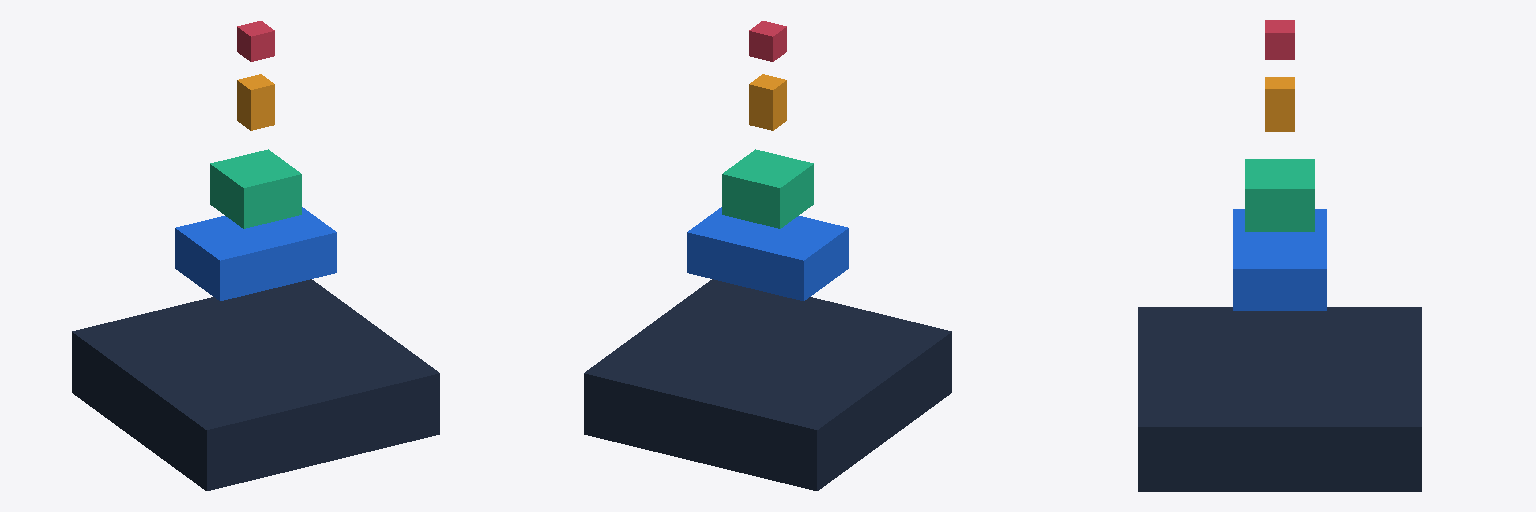
The robot description file, URDF, robot "Quickstart Gantry":
<?xml version="1.0"?>
<!-- Fictional virtual robot. SI units. Acceleration is a RoboDE-supported URDF extension; values are illustrative simulation settings, not manufacturer ratings. -->
<robot name="Quickstart Gantry">
  <link name="base_link">
    <visual>
      <origin xyz="0 0 .03" />
      <geometry>
        <box size=".24 .24 .06" />
      </geometry>
      <material name="base_link_color">
        <color rgba=".18 .23 .32 1" />
      </material>
    </visual>
    <collision>
      <origin xyz="0 0 .03" />
      <geometry>
        <box size=".24 .24 .06" />
      </geometry>
    </collision>
    <inertial>
      <origin xyz="0 0 .03" />
      <mass value="0.2" />
      <inertia ixx=".001" ixy="0" ixz="0" iyy=".001" iyz="0" izz=".001" />
    </inertial>
  </link>
  <link name="x_carriage">
    <visual>
      <origin xyz="0 0 0" />
      <geometry>
        <box size=".12 .08 .04" />
      </geometry>
      <material name="x_carriage_color">
        <color rgba=".2 .5 .95 1" />
      </material>
    </visual>
    <collision>
      <origin xyz="0 0 0" />
      <geometry>
        <box size=".12 .08 .04" />
      </geometry>
    </collision>
    <inertial>
      <origin xyz="0 0 0" />
      <mass value="0.2" />
      <inertia ixx=".001" ixy="0" ixz="0" iyy=".001" iyz="0" izz=".001" />
    </inertial>
  </link>
  <link name="y_carriage">
    <visual>
      <origin xyz="0 0 0" />
      <geometry>
        <box size=".06 .06 .04" />
      </geometry>
      <material name="y_carriage_color">
        <color rgba=".2 .8 .6 1" />
      </material>
    </visual>
    <collision>
      <origin xyz="0 0 0" />
      <geometry>
        <box size=".06 .06 .04" />
      </geometry>
    </collision>
    <inertial>
      <origin xyz="0 0 0" />
      <mass value="0.2" />
      <inertia ixx=".001" ixy="0" ixz="0" iyy=".001" iyz="0" izz=".001" />
    </inertial>
  </link>
  <link name="z_carriage">
    <visual>
      <origin xyz="0 0 .025" />
      <geometry>
        <box size=".025 .025 .04" />
      </geometry>
      <material name="z_carriage_color">
        <color rgba=".95 .65 .2 1" />
      </material>
    </visual>
    <collision>
      <origin xyz="0 0 .025" />
      <geometry>
        <box size=".025 .025 .04" />
      </geometry>
    </collision>
    <inertial>
      <origin xyz="0 0 .025" />
      <mass value="0.2" />
      <inertia ixx=".001" ixy="0" ixz="0" iyy=".001" iyz="0" izz=".001" />
    </inertial>
  </link>
  <link name="tool_tip">
    <visual>
      <origin xyz="0 0 0" />
      <geometry>
        <box size=".025 .025 .025" />
      </geometry>
      <material name="tool_tip_color">
        <color rgba=".85 .3 .4 1" />
      </material>
    </visual>
    <collision>
      <origin xyz="0 0 0" />
      <geometry>
        <box size=".025 .025 .025" />
      </geometry>
    </collision>
    <inertial>
      <origin xyz="0 0 0" />
      <mass value="0.2" />
      <inertia ixx=".001" ixy="0" ixz="0" iyy=".001" iyz="0" izz=".001" />
    </inertial>
  </link>
  <joint name="slide_x" type="prismatic">
    <parent link="base_link" />
    <child link="x_carriage" />
    <origin xyz="0 0 .16" />
    <axis xyz="1 0 0" />
    <limit lower="-0.5" upper="0.5" effort="20" velocity=".3" acceleration=".8" />
  </joint>
  <joint name="slide_y" type="prismatic">
    <parent link="x_carriage" />
    <child link="y_carriage" />
    <origin xyz="0 0 .06" />
    <axis xyz="0 -1 0" />
    <limit lower="-0.5" upper="0.5" effort="20" velocity=".3" acceleration=".8" />
  </joint>
  <joint name="slide_z" type="prismatic">
    <parent link="y_carriage" />
    <child link="z_carriage" />
    <origin xyz="0 0 .06" />
    <axis xyz="0 0 1" />
    <limit lower="0" upper="0.5" effort="20" velocity=".3" acceleration=".8" />
  </joint>
  <joint name="tool_mount" type="fixed">
    <parent link="z_carriage" />
    <child link="tool_tip" />
    <origin xyz="0 0 .085" />
  </joint>
</robot>

--- Facts derived from the render (not from the file) ---
The picture shows the robot from 3 angles, left to right: view 1: azimuth 30°, elevation 25°; view 2: azimuth 150°, elevation 25°; view 3: azimuth 270°, elevation 25°; orthographic projection.
Robot: Quickstart Gantry — 5 links, 4 joints (3 prismatic, 1 fixed); root link base_link; default pose: every joint at zero.
Visible links, largest first — view 1: base_link, x_carriage, y_carriage, z_carriage, tool_tip; view 2: base_link, x_carriage, y_carriage, z_carriage, tool_tip; view 3: base_link, x_carriage, y_carriage, z_carriage, tool_tip.
Boxes of the visible links, left/top/right/bottom form: base_link: left=72, top=279, right=439, bottom=490; x_carriage: left=175, top=207, right=336, bottom=300; y_carriage: left=210, top=149, right=301, bottom=228; z_carriage: left=237, top=74, right=274, bottom=130; tool_tip: left=237, top=21, right=274, bottom=61; base_link: left=584, top=279, right=951, bottom=490; x_carriage: left=687, top=207, right=848, bottom=300; y_carriage: left=722, top=149, right=813, bottom=228; z_carriage: left=749, top=74, right=786, bottom=130; tool_tip: left=749, top=21, right=786, bottom=61; base_link: left=1138, top=307, right=1421, bottom=491; x_carriage: left=1233, top=209, right=1326, bottom=310; y_carriage: left=1245, top=159, right=1314, bottom=231; z_carriage: left=1265, top=77, right=1294, bottom=131; tool_tip: left=1265, top=20, right=1294, bottom=59.
Bounding box of the posed robot: 0.24 × 0.24 × 0.3775 m (x, y, z).
Geometry: primitives only (box / cylinder / sphere), no mesh files.
